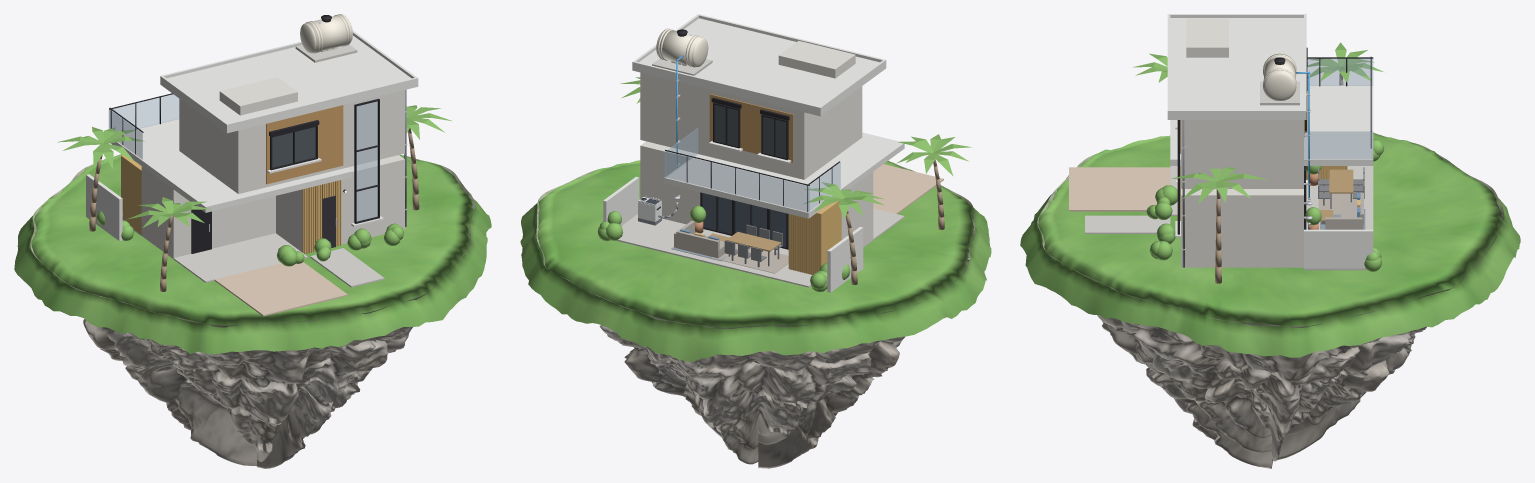
The model's file is casa.glb.
3 views of the same model, side by side, from view 1: azimuth 30°, elevation 25°; view 2: azimuth 150°, elevation 25°; view 3: azimuth 270°, elevation 25° (orthographic). The views are drawn at different scales.
Parts seen in each view (by area): view 1: island_grass, island_rock, Stucco, Slab, Concrete, Plant, Glass, Paver, WoodSlat, BlackFrame, Wood, D_Slab (+6 smaller); view 2: island_grass, island_rock, Slab, Stucco, Glass, GlassDark, Concrete, Plant, WoodSlat, WallWhite, D_Slab, BlackFrame (+9 smaller); view 3: island_grass, island_rock, Stucco, Slab, Plant, Paver, Glass, Concrete, WallWhite, D_Slab, TankCream, BlackFrame (+5 smaller).
Part boxes in pixels (x1,y1,x2,y2): island_grass: (14, 154, 491, 354); island_rock: (30, 154, 474, 468); Stucco: (141, 77, 404, 258); Slab: (111, 35, 418, 212); Concrete: (133, 44, 384, 287); Plant: (57, 105, 452, 266); Glass: (108, 94, 377, 221); Paver: (214, 262, 347, 316); WoodSlat: (121, 155, 341, 253); BlackFrame: (109, 93, 379, 253); Wood: (266, 105, 343, 184); D_Slab: (160, 30, 418, 226); island_grass: (520, 160, 991, 361); island_rock: (536, 160, 975, 468); Slab: (632, 18, 904, 218); Stucco: (640, 41, 873, 246); Glass: (664, 128, 840, 212); GlassDark: (702, 105, 788, 247); Concrete: (616, 58, 904, 287); Plant: (597, 77, 971, 291); WoodSlat: (788, 200, 841, 274); WallWhite: (603, 176, 863, 292); D_Slab: (632, 14, 886, 163); BlackFrame: (665, 97, 839, 249); island_grass: (1020, 133, 1520, 357); island_rock: (1037, 132, 1503, 468); Stucco: (1181, 18, 1303, 267); Slab: (1167, 18, 1373, 165); Plant: (1133, 42, 1384, 271); Paver: (1069, 167, 1170, 211); Glass: (1180, 58, 1373, 221); Concrete: (1085, 81, 1373, 270); WallWhite: (1304, 229, 1373, 268); D_Slab: (1167, 14, 1310, 237); TankCream: (1263, 53, 1296, 100); BlackFrame: (1177, 47, 1373, 234).
Bounding box in the file's own units: 19.51 × 18.45 × 18.74.
